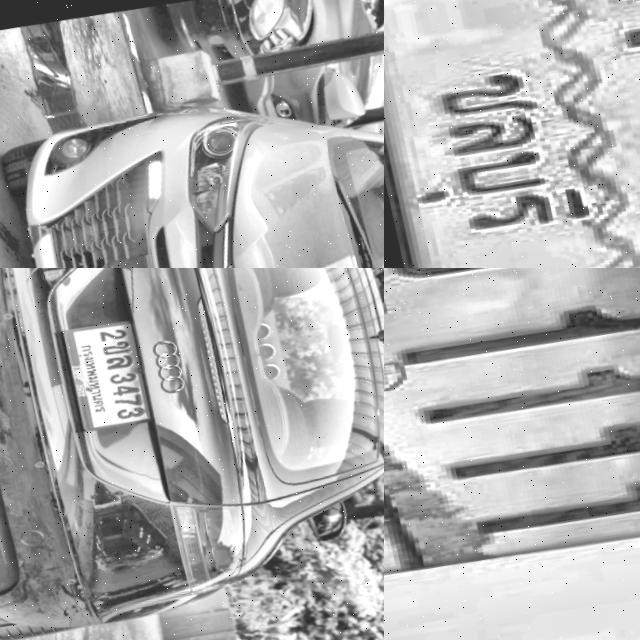license-plate: (384, 268, 640, 640), (384, 0, 640, 268), (55, 313, 158, 433)
